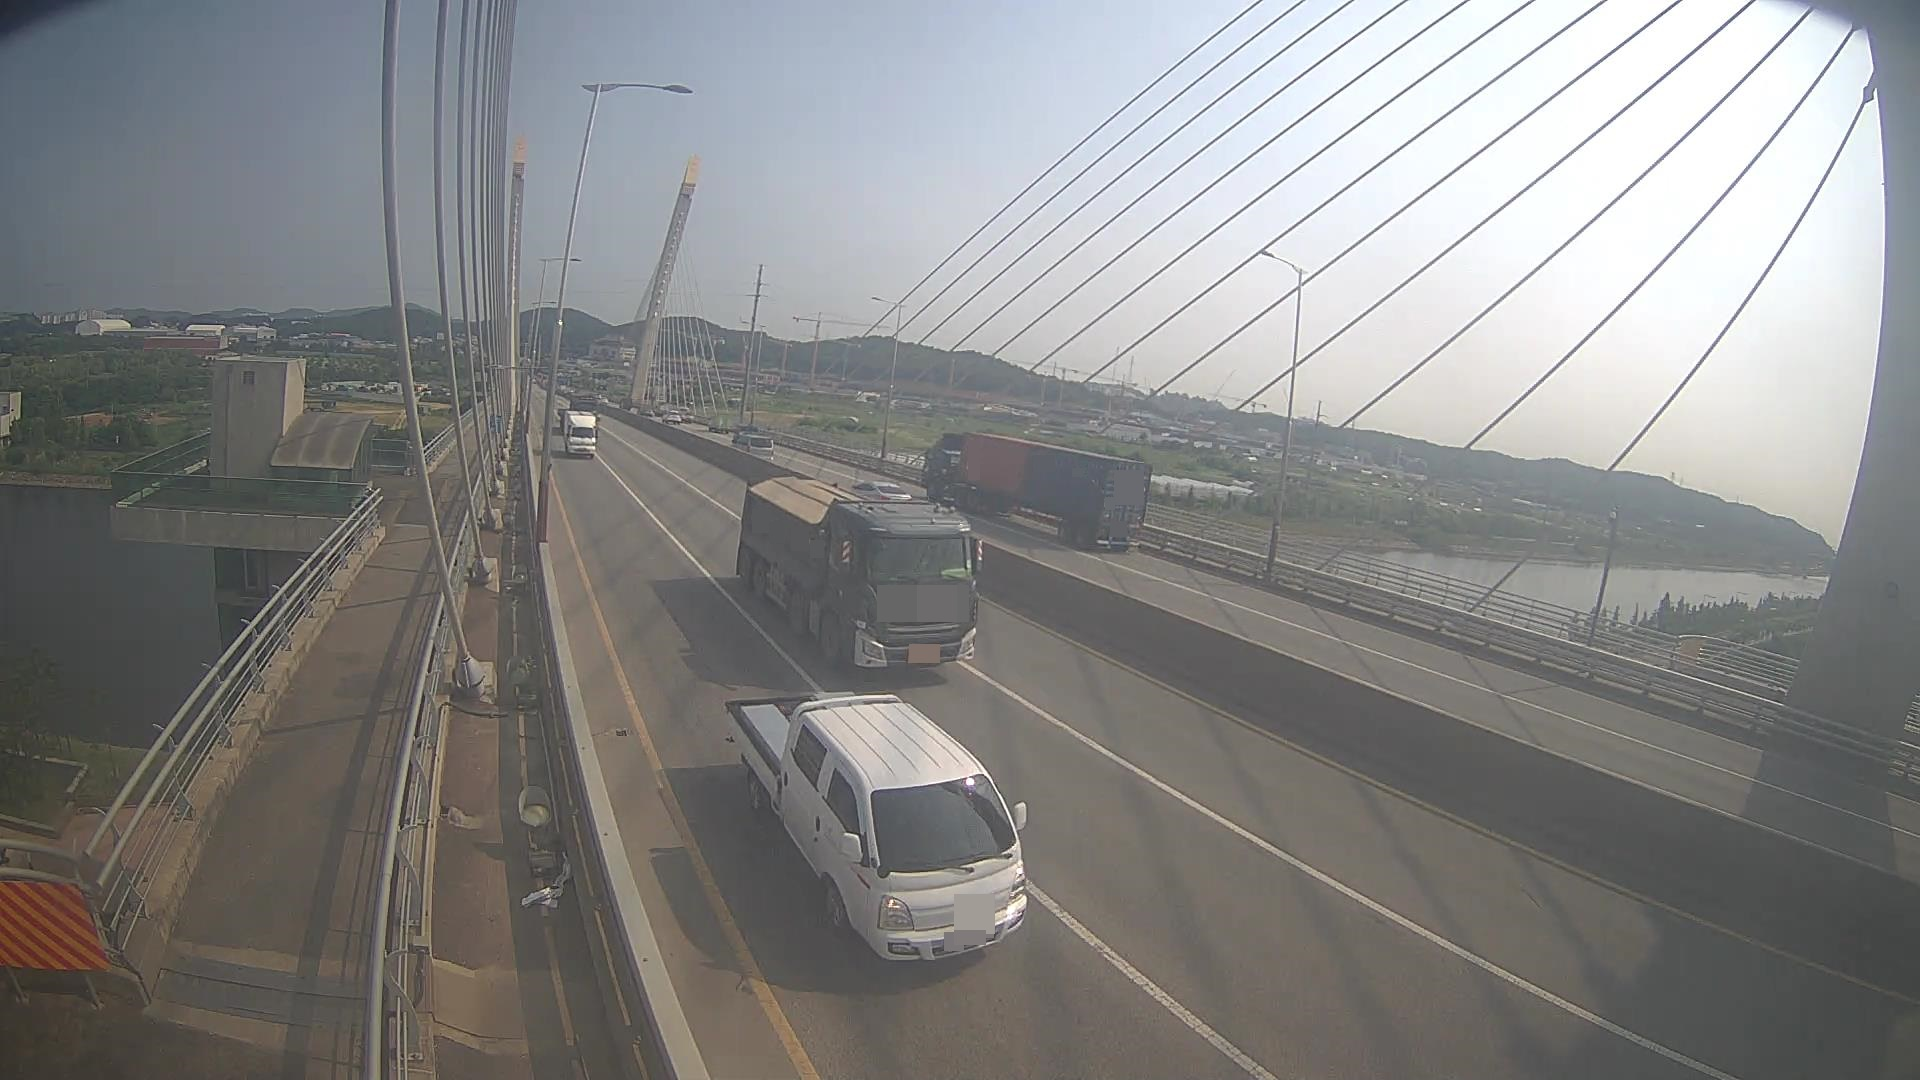정상차량: (737, 476, 981, 666)
